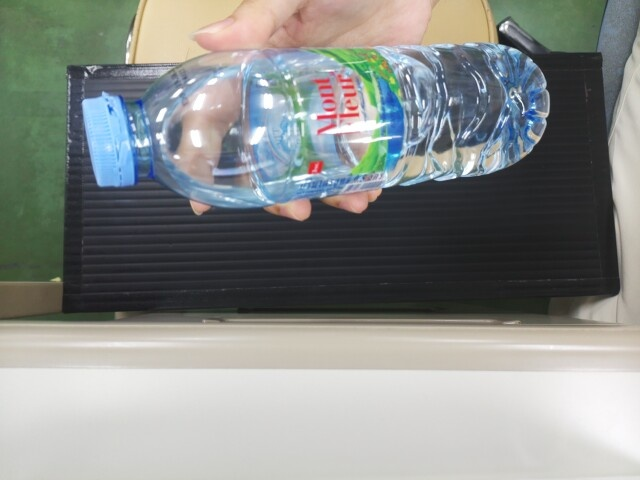plastic_bottle: (83, 46, 546, 187)
